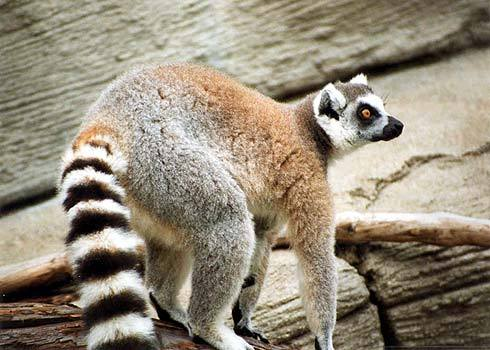cat: (57, 63, 407, 349)
